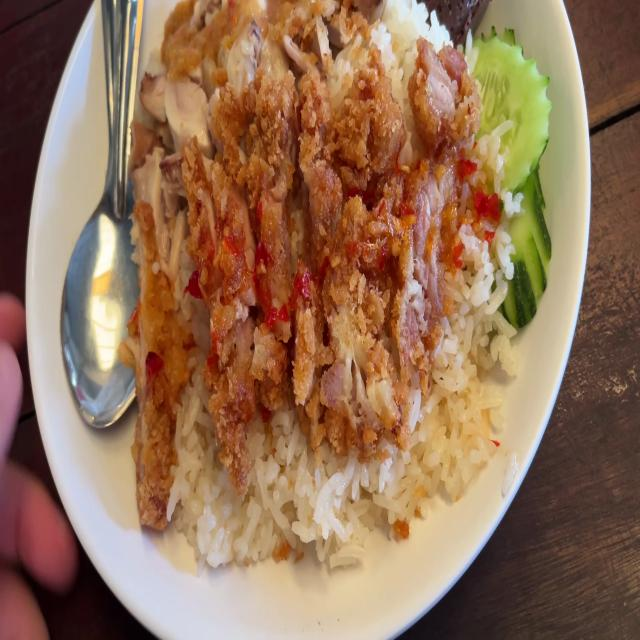boiled_chicken: (138, 0, 375, 111)
boiled_chicken_blood_jelly: (424, 0, 484, 40)
chicken_rice: (130, 0, 549, 562)
cucumber: (466, 29, 553, 210), (489, 159, 549, 319)
fried_chicken: (136, 112, 459, 446)
